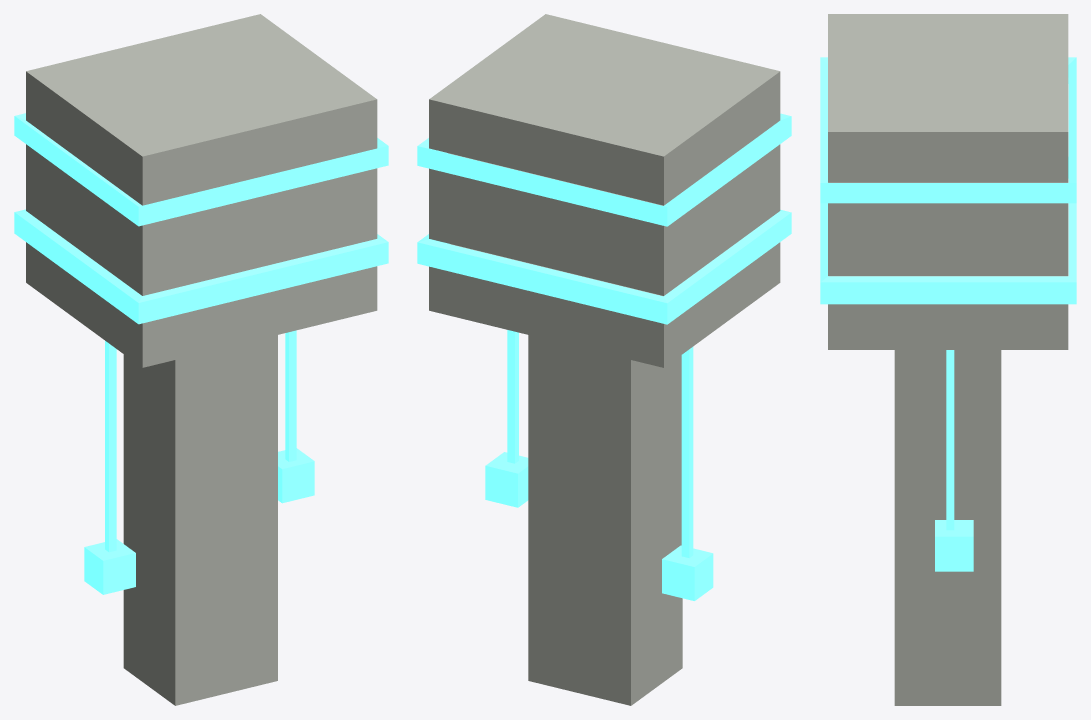
The model's file is Ruine_3.fbx.
3 renders of one model, left to right at view 1: azimuth 30°, elevation 25°; view 2: azimuth 150°, elevation 25°; view 3: azimuth 270°, elevation 25°, orthographic. The views are drawn at different scales.
Visible parts, largest first — view 1: Ruine 3 -2; view 2: Ruine 3 -2; view 3: Ruine 3 -2.
Part boxes in pixels (<box>): Ruine 3 -2: <box>14,14,388,705</box>; Ruine 3 -2: <box>417,14,791,705</box>; Ruine 3 -2: <box>820,14,1076,705</box>.
Bounding box in the file's own units: 162 × 366 × 140.
